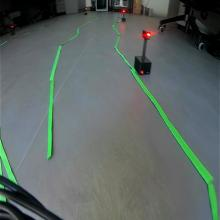red: (142, 29, 151, 40)
